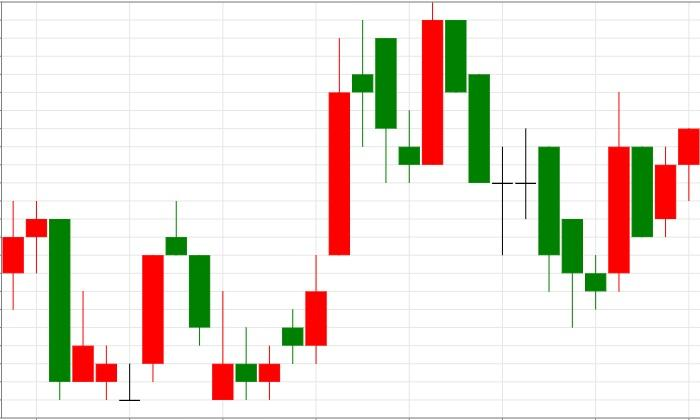morning_star_rise: (445, 19, 629, 327)
